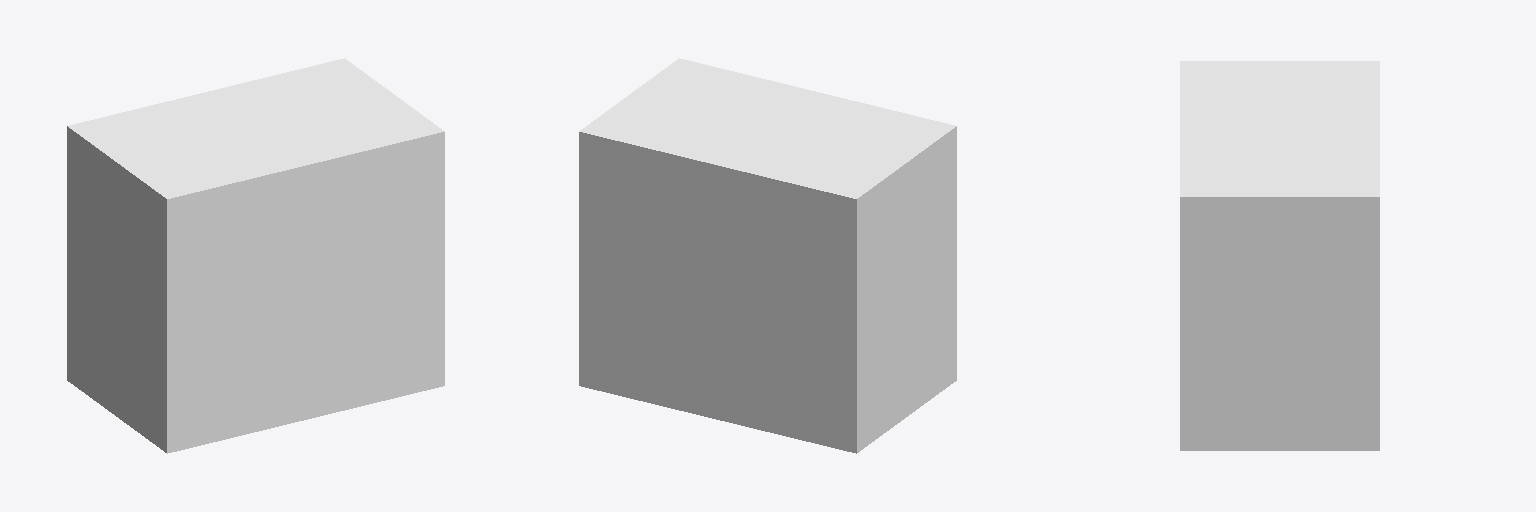
The model's file is Cabeza.obj.
The picture shows the model from 3 angles: view 1: azimuth 30°, elevation 25°; view 2: azimuth 150°, elevation 25°; view 3: azimuth 270°, elevation 25°; orthographic projection.
Visible parts, largest first — view 1: object 1; view 2: object 1; view 3: object 1.
Part boxes in pixels (bbox=[...]): object 1: bbox=[67, 58, 444, 453]; object 1: bbox=[579, 58, 956, 453]; object 1: bbox=[1180, 61, 1379, 450].
Bounding box in the file's own units: 0.8 × 0.7 × 0.5.